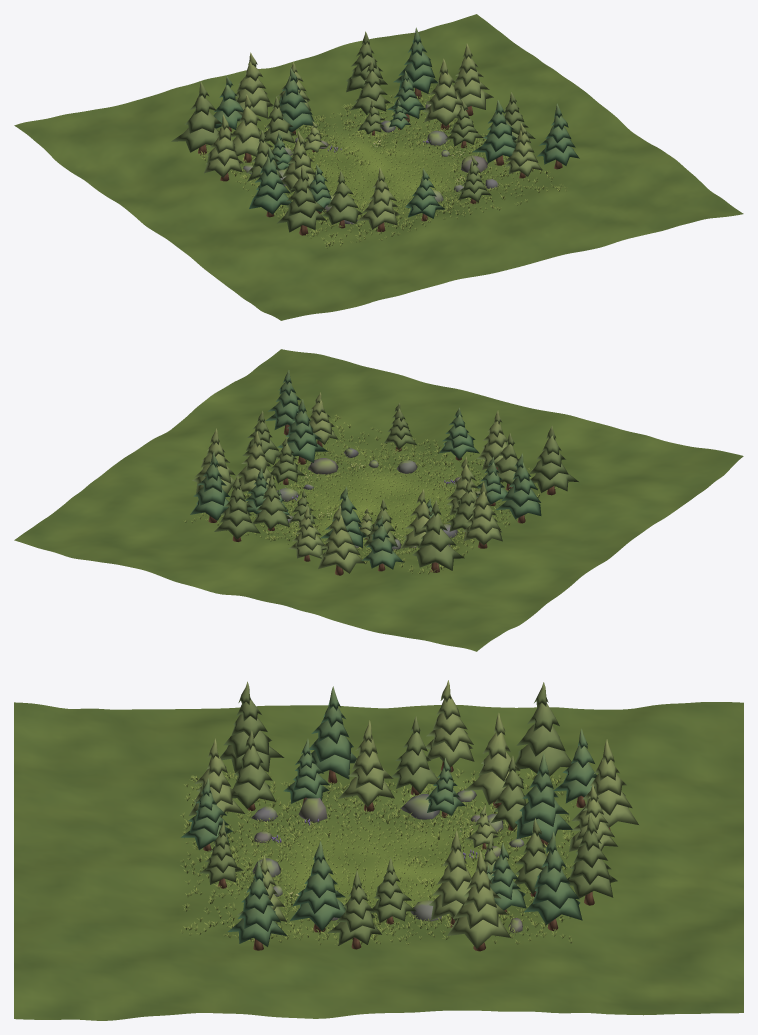
Rendered from forest.glb.
The picture shows the model from 3 angles, top to bottom: view 1: azimuth 30°, elevation 25°; view 2: azimuth 150°, elevation 25°; view 3: azimuth 270°, elevation 25°; orthographic projection. The views are drawn at different scales.
Visible parts, largest first — view 1: Meadow surface, Short meadow grass, Fluffy verge grass, Pine 22, Pine 19, Pine 12, Pine 20, Pine 27, Pine 14, Pine 26, Pine 21, Pine 29 (+18 smaller); view 2: Meadow surface, Short meadow grass, Fluffy verge grass, Pine 22, Pine 24, Pine 19, Pine 20, Pine 26, Pine 14, Pine 21, Pine 25, Pine 12 (+18 smaller); view 3: Meadow surface, Short meadow grass, Fluffy verge grass, Pine 27, Pine 26, Pine 22, Pine 14, Pine 20, Pine 08, Pine 25, Pine 21, Pine 29 (+21 smaller).
Part boxes in pixels (box(x1,y1,x2,y2)): Meadow surface: box(14, 14, 743, 320); Short meadow grass: box(198, 86, 566, 248); Fluffy verge grass: box(197, 96, 562, 246); Pine 22: box(171, 81, 222, 154); Pine 19: box(277, 165, 326, 235); Pine 12: box(422, 58, 467, 130); Pine 20: box(249, 147, 291, 217); Pine 27: box(453, 43, 493, 115); Pine 14: box(472, 100, 516, 165); Pine 26: box(393, 27, 437, 98); Pine 21: box(204, 114, 243, 181); Pine 29: box(537, 103, 579, 169); Meadow surface: box(14, 349, 743, 651); Short meadow grass: box(184, 415, 558, 574); Fluffy verge grass: box(218, 414, 540, 571); Pine 22: box(412, 500, 464, 572); Pine 24: box(318, 505, 365, 575); Pine 19: box(529, 426, 578, 495); Pine 20: box(495, 453, 541, 523); Pine 26: box(190, 452, 230, 522); Pine 14: box(277, 399, 327, 464); Pine 21: box(462, 482, 502, 548); Pine 25: box(214, 475, 260, 541); Pine 12: box(235, 431, 275, 494); Meadow surface: box(14, 702, 743, 1020); Short meadow grass: box(180, 768, 575, 945); Fluffy verge grass: box(185, 770, 572, 941); Pine 27: box(447, 850, 510, 951); Pine 26: box(524, 831, 582, 930); Pine 22: box(515, 682, 571, 776); Pine 14: box(290, 841, 345, 932); Pine 20: box(309, 686, 356, 783); Pine 08: box(515, 753, 572, 845); Pine 25: box(567, 813, 617, 905); Pine 21: box(425, 680, 474, 772); Pine 29: box(228, 860, 287, 950).
Bounding box in the file's own units: 52 × 8.37 × 52.
